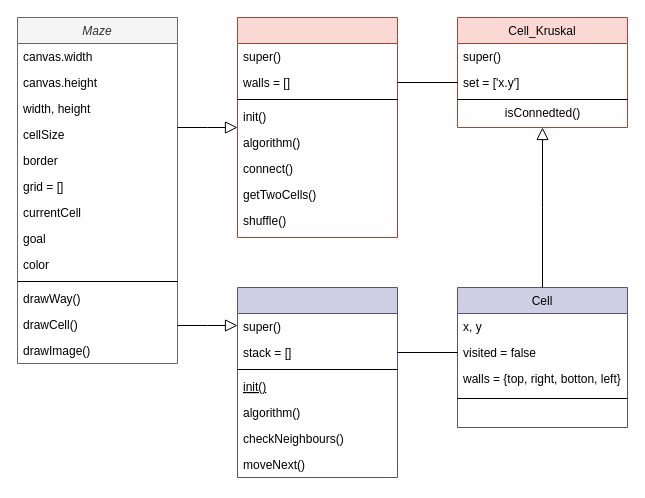
The diagram is 645 pixels wide and 498 high, and some of its shapes have lost their labels. Each missing label, with the box of its shape:
Maze_Backtracker: (236, 286, 398, 478)
Maze_Kruskal: (236, 16, 398, 238)
